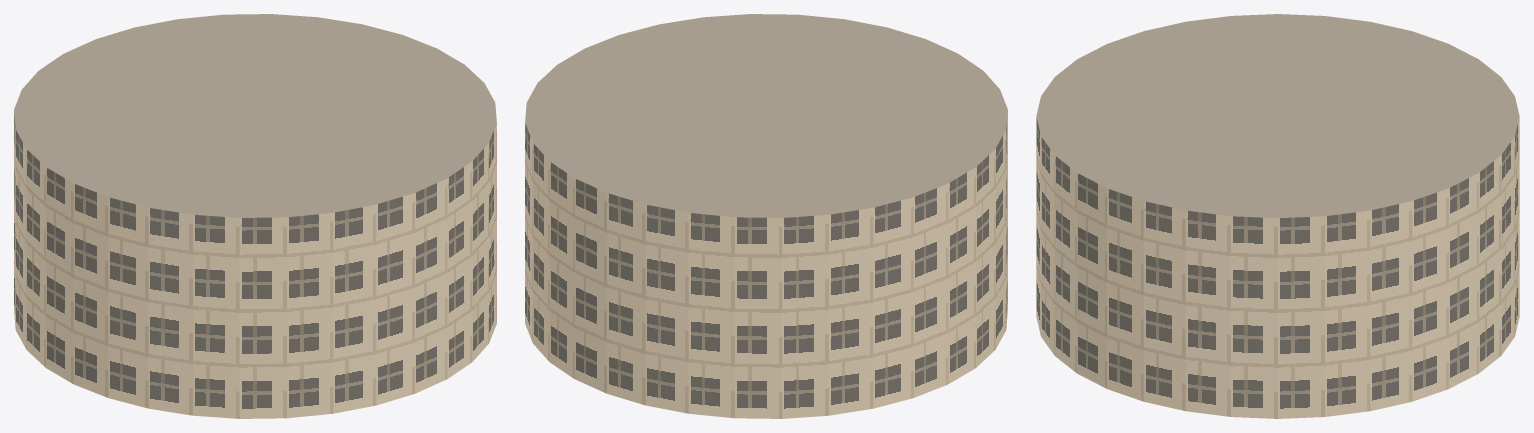
File: rounded-footprint.glb
3 views of the same model, side by side, from view 1: azimuth 30°, elevation 25°; view 2: azimuth 150°, elevation 25°; view 3: azimuth 270°, elevation 25° (orthographic).
Parts seen in each view (by area): view 1: Rounded footprint; view 2: Rounded footprint; view 3: Rounded footprint.
Boxes of the visible parts, bbox=[...] form: Rounded footprint: bbox=[14, 14, 496, 418]; Rounded footprint: bbox=[525, 14, 1007, 418]; Rounded footprint: bbox=[1036, 14, 1519, 418].
Bounding box in the file's own units: 24 × 11 × 24.
Materials: 2 (1 with a texture image).
